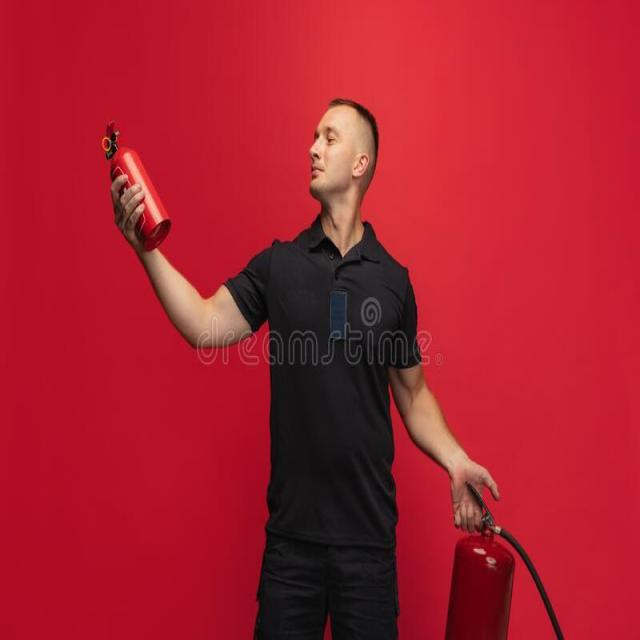fire_extinguisher: (436, 470, 577, 639), (97, 112, 180, 258)
